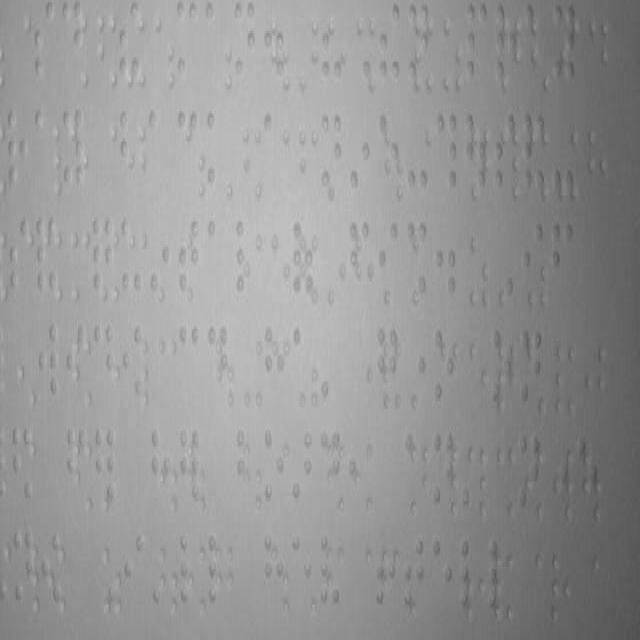braiile: (464, 1, 488, 88), (7, 106, 31, 192), (38, 318, 62, 402), (59, 1, 82, 88), (34, 106, 56, 196), (32, 1, 56, 83), (205, 106, 229, 186), (262, 109, 286, 189), (203, 1, 225, 88), (148, 108, 170, 194), (177, 0, 200, 80), (232, 0, 255, 80), (205, 216, 228, 296), (432, 433, 456, 509), (551, 219, 573, 301), (13, 521, 35, 603), (7, 214, 29, 294), (179, 322, 201, 402), (320, 112, 342, 190), (522, 221, 544, 299), (292, 323, 314, 401), (378, 220, 400, 296), (94, 326, 115, 404), (432, 534, 453, 612), (264, 426, 284, 506), (292, 529, 312, 609), (404, 534, 424, 612), (124, 531, 144, 607)
